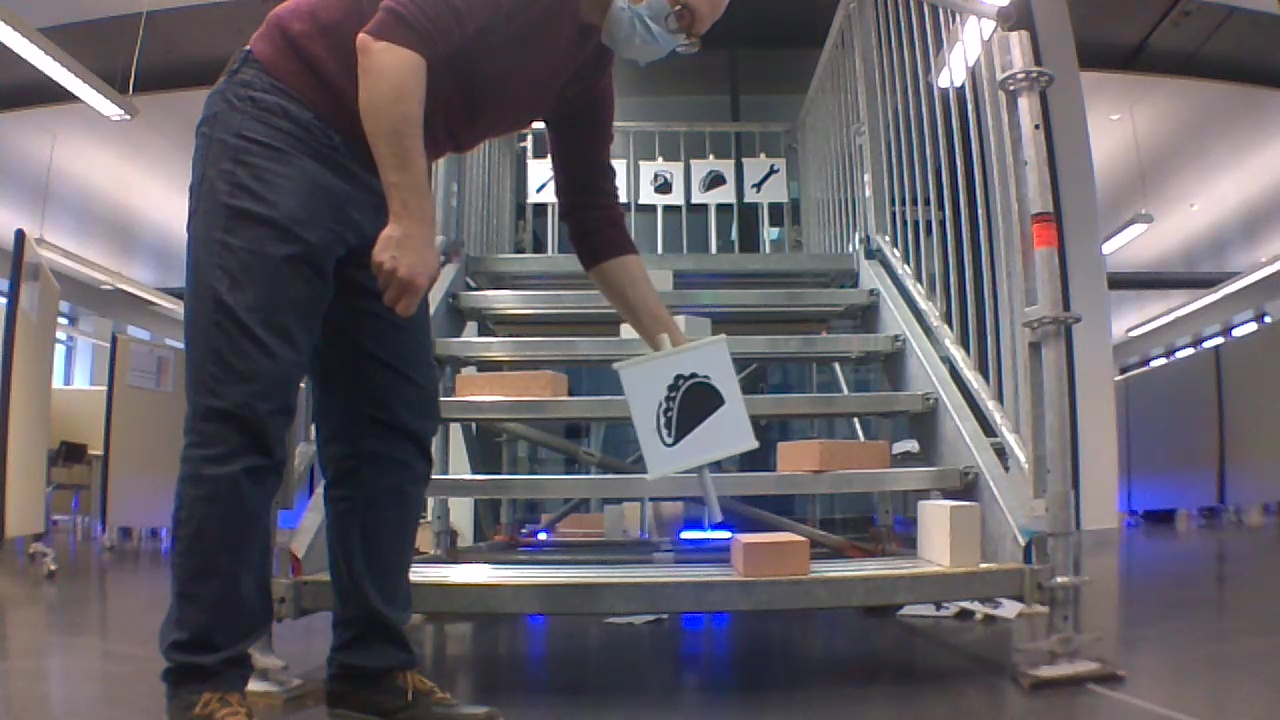brick: (918, 499, 980, 568), (732, 532, 809, 575), (778, 439, 890, 468), (456, 370, 567, 398)
bucket: (644, 168, 677, 197)
edge: (410, 566, 1023, 615)
taco: (639, 368, 731, 447), (697, 165, 729, 196)
wrench: (746, 158, 782, 195)
